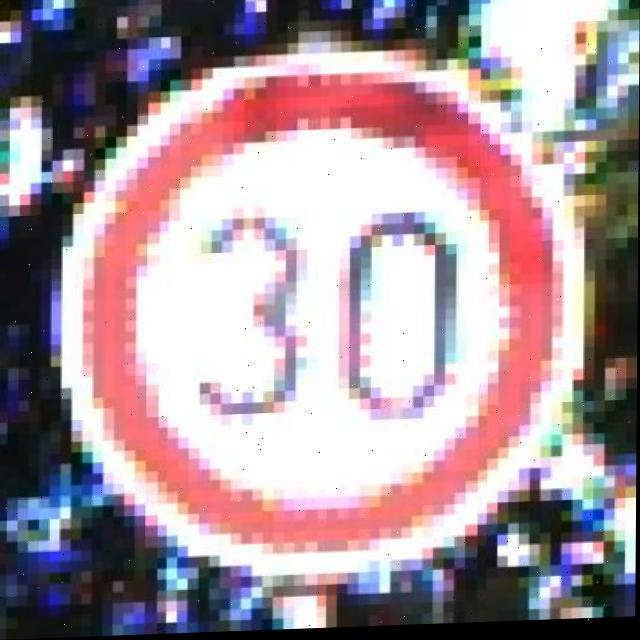Speed limit 30: (70, 54, 565, 581)
